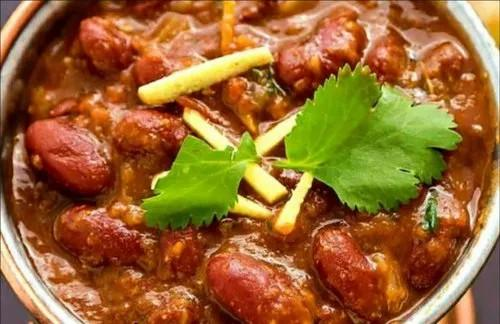RajmaCurry: (8, 0, 484, 324)
